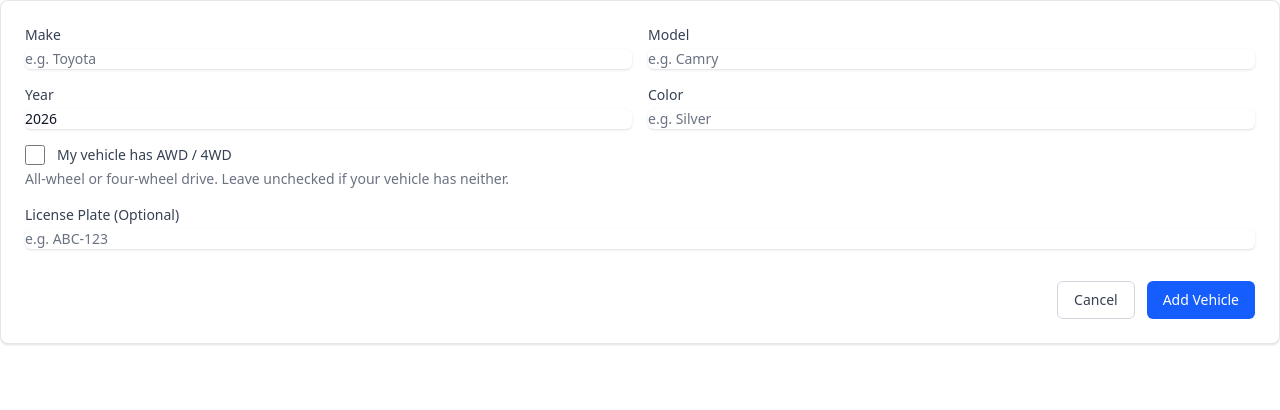
VehicleForm › Error Handling › displays validation errors for invalid input
# Try to submit with empty required fields
Click the button "Add Vehicle".
click(1201, 300)  # box top-left (1147, 281), bottom-right (1255, 319)
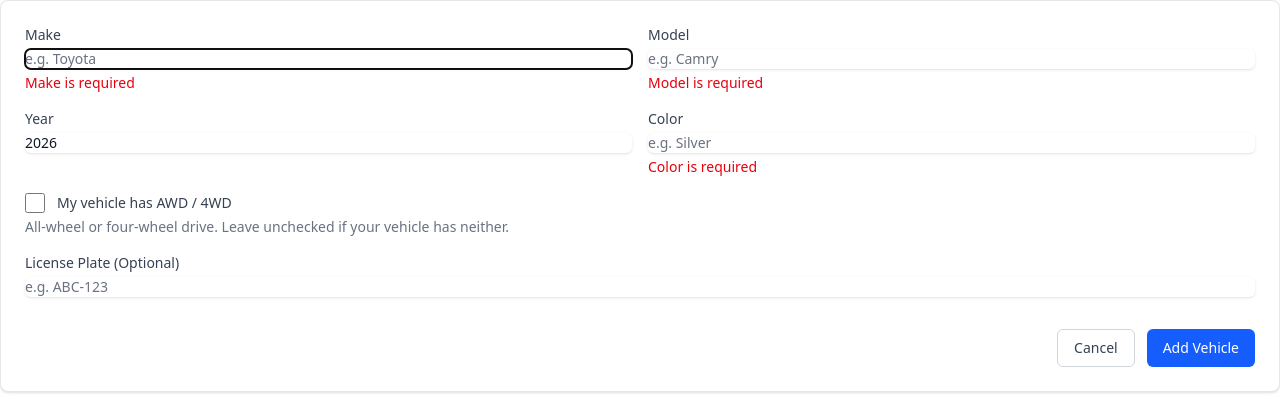
Expected: the text "Make is required" is shown, top-left (25, 73), bottom-right (135, 92)
